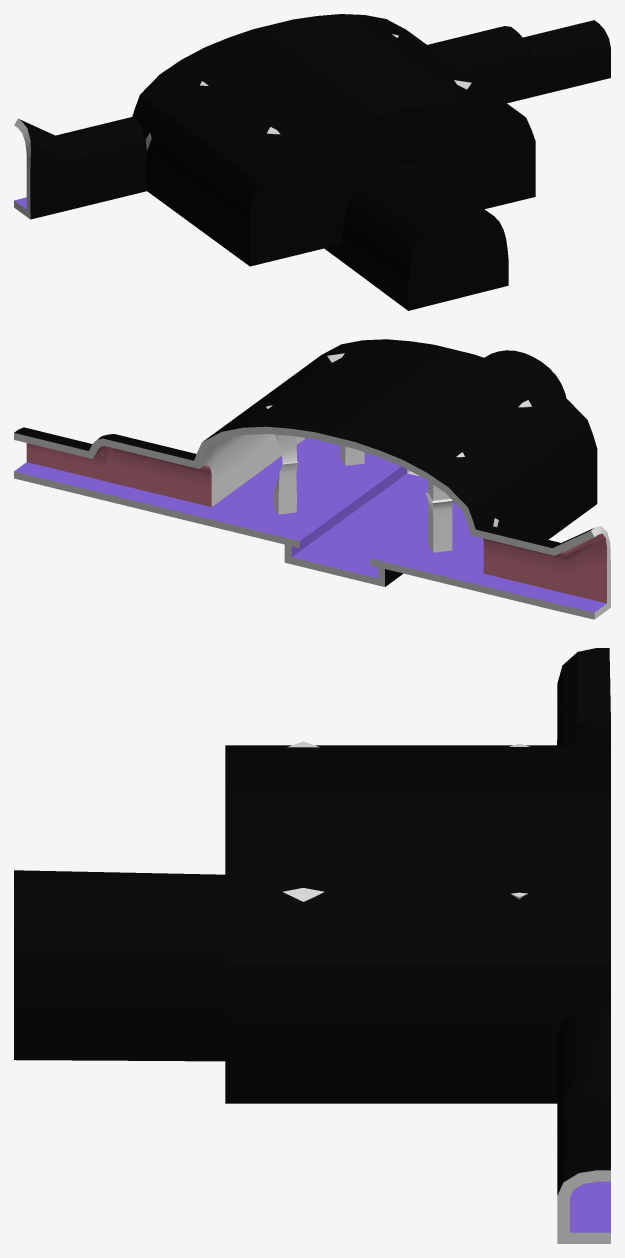
The model's file is salle3.fbx.
The picture shows the model from 3 angles, top to bottom: view 1: azimuth 30°, elevation 25°; view 2: azimuth 150°, elevation 25°; view 3: azimuth 270°, elevation 25°; orthographic projection. The views are drawn at different scales.
Parts seen in each view (by area): view 1: Plane.004; view 2: Plane.004, Cube.003; view 3: Plane.004.
Part boxes in pixels (left/top/right/bottom): Plane.004: left=14, top=14, right=610, bottom=310; Plane.004: left=14, top=339, right=610, bottom=619; Cube.003: left=266, top=353, right=531, bottom=552; Plane.004: left=14, top=648, right=610, bottom=1243.
Bounding box in the file's own units: 10682 × 2440 × 5904.
